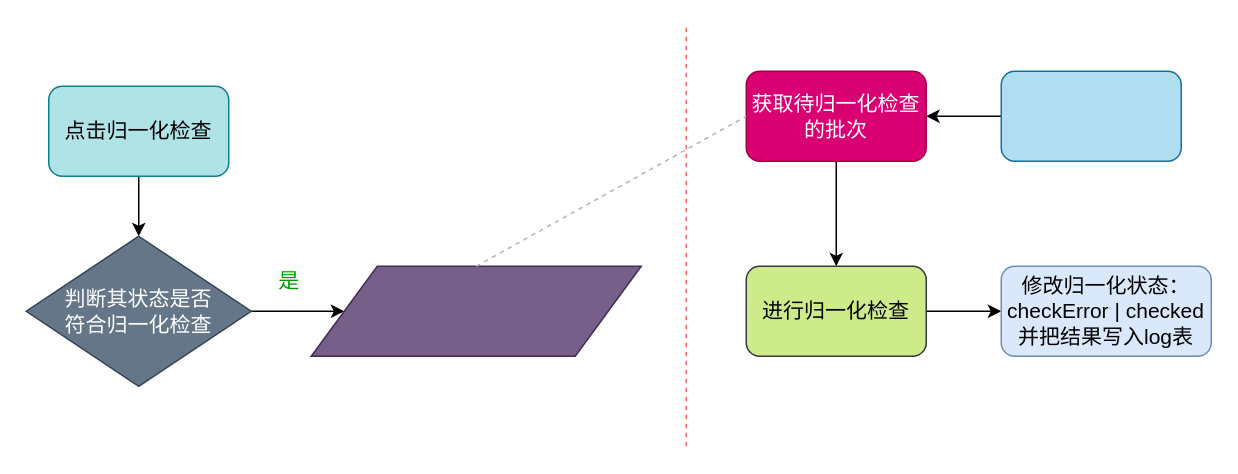
Image size: 1238x474. Some labels were removed from this diagram. Each missing label, with the centre of its shape:
"归一化检查 常驻脚本" belongs at pixel 1090 115.
"把归一化检查状态改为 待检查waitingForCheck" belongs at pixel 475 310.
